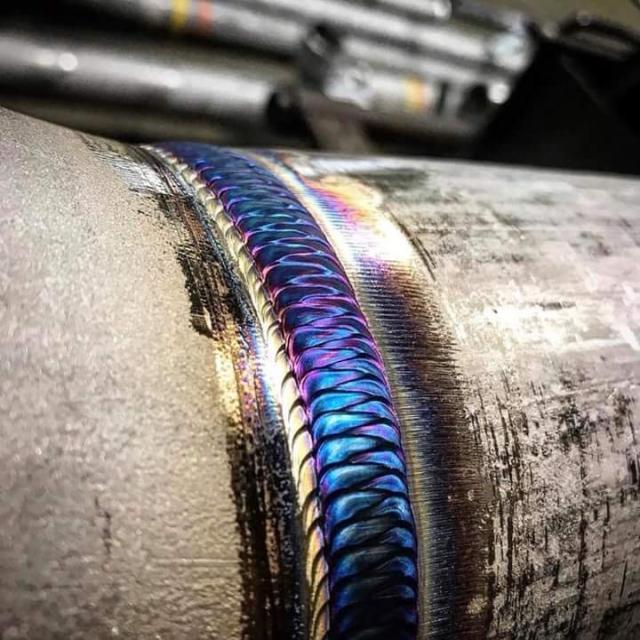Good Welding: (171, 147, 419, 639)
